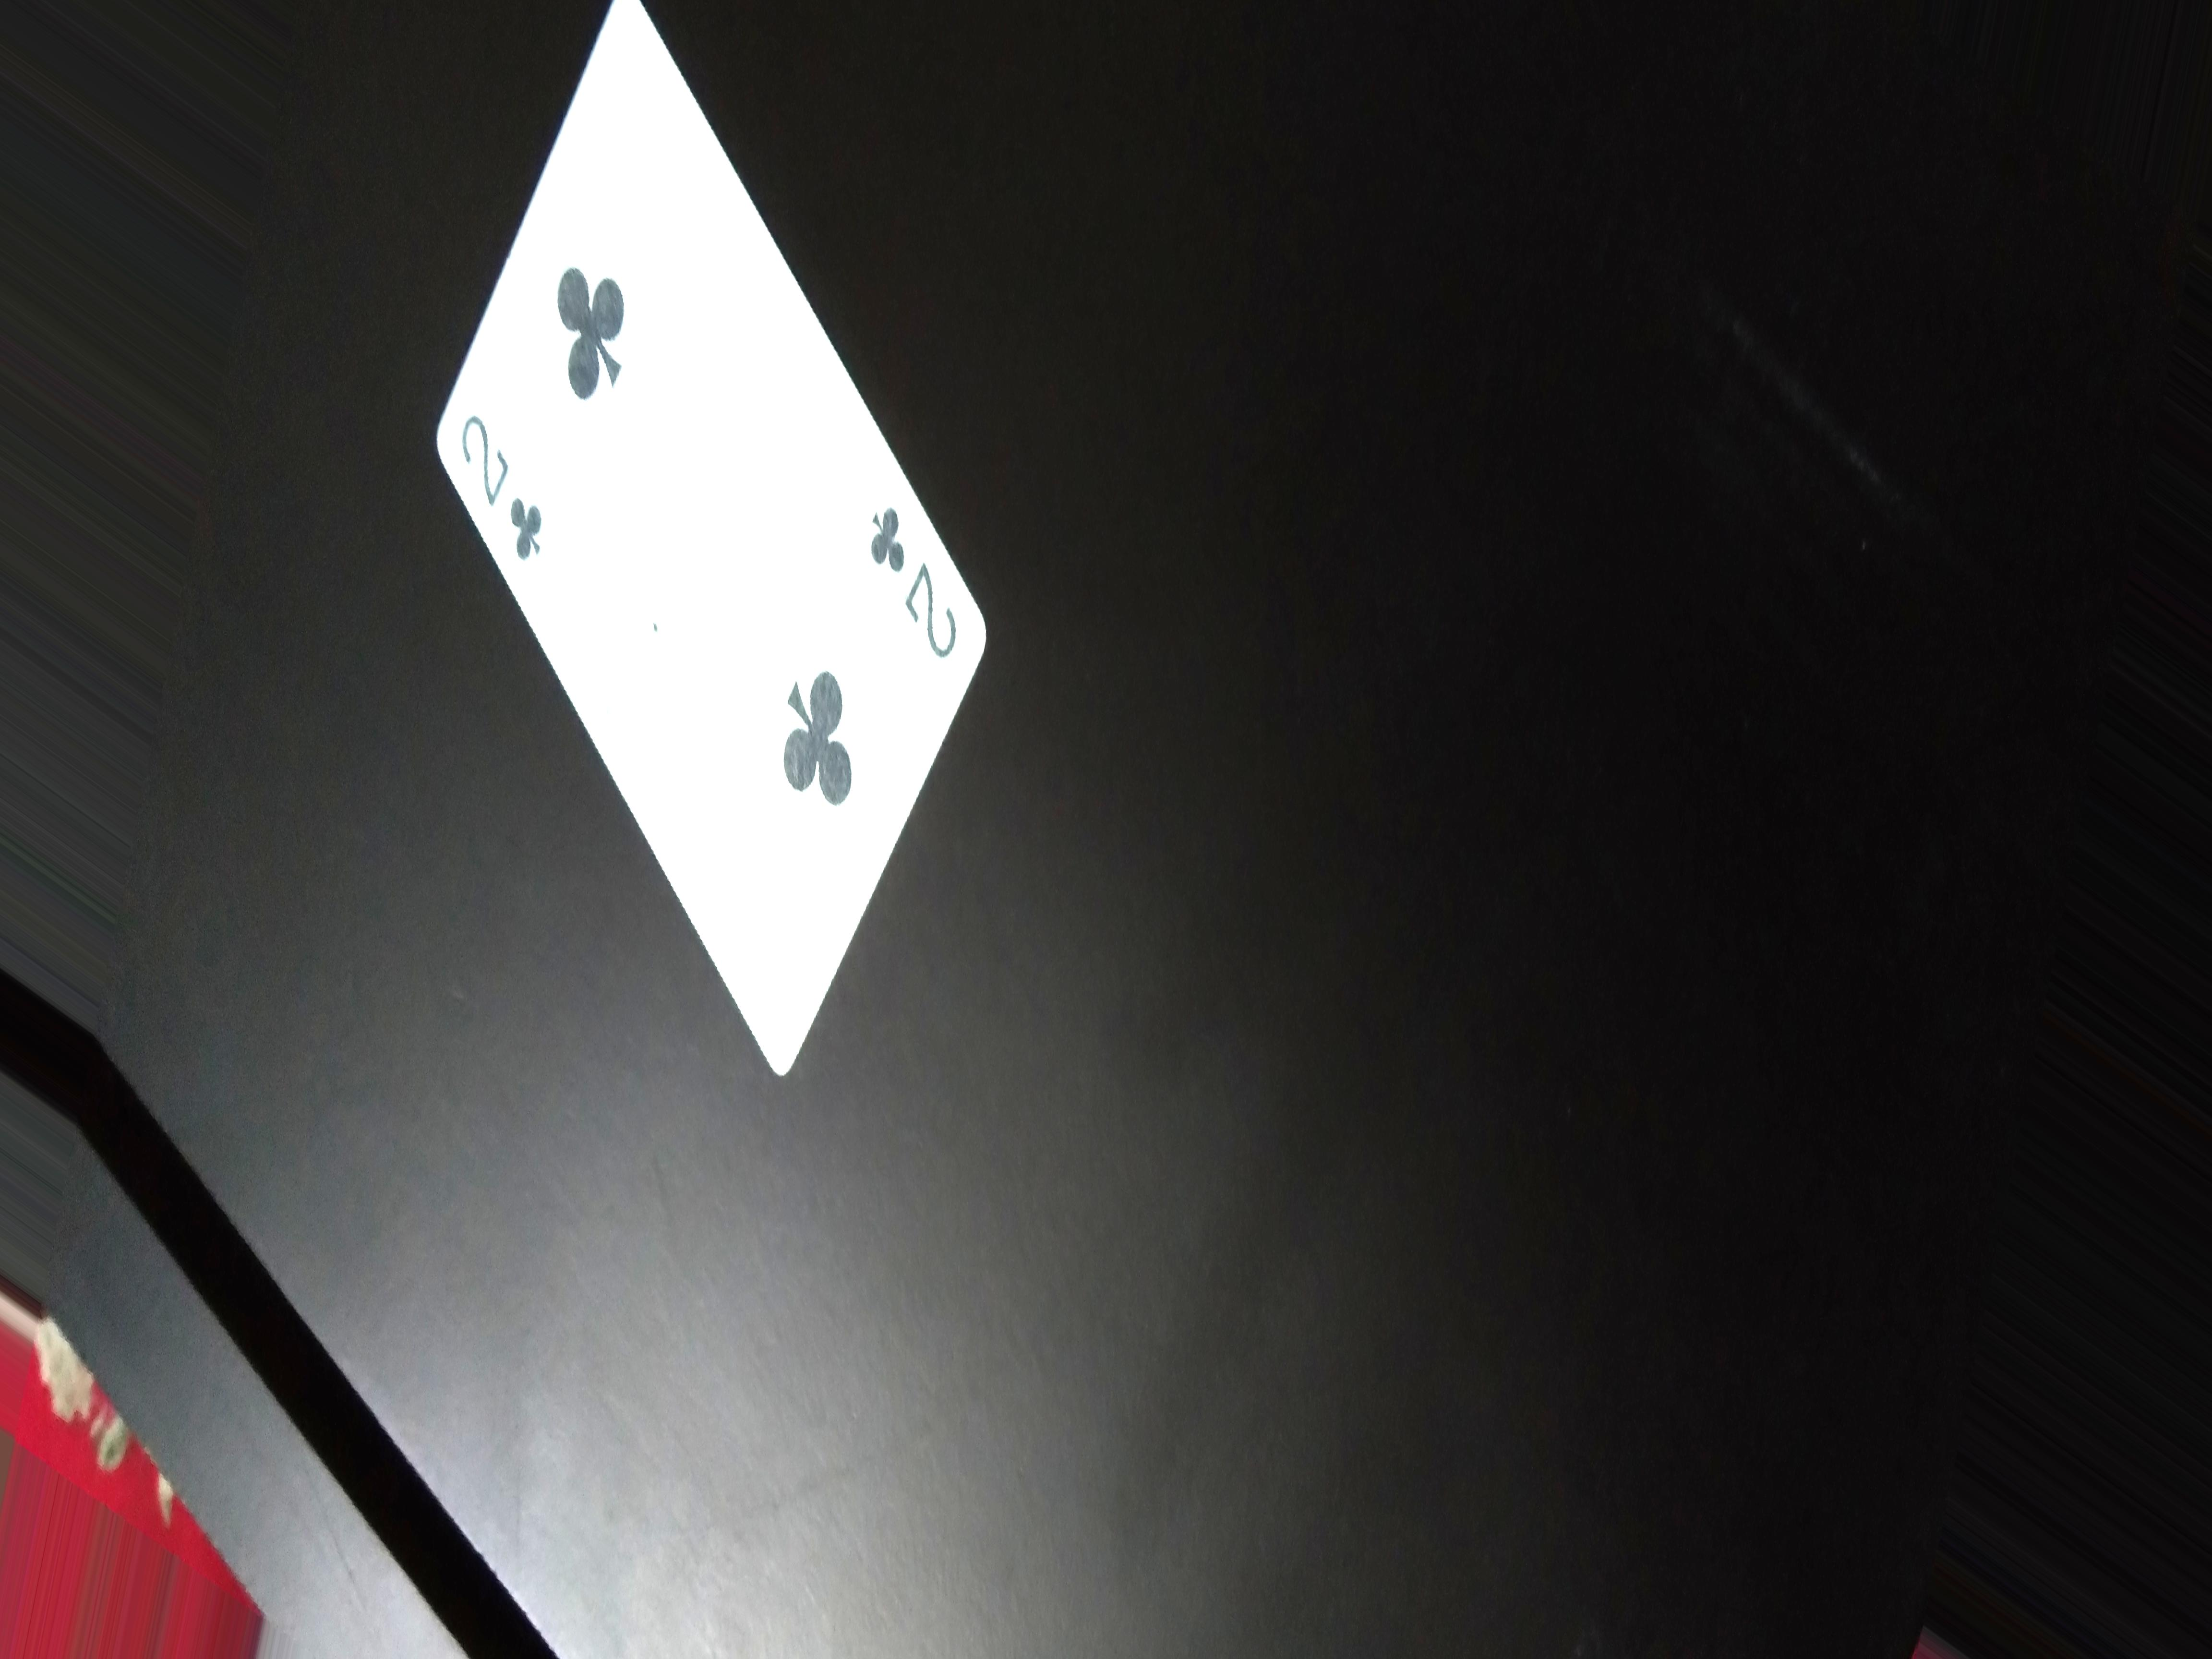2C: (836, 500, 954, 666)
